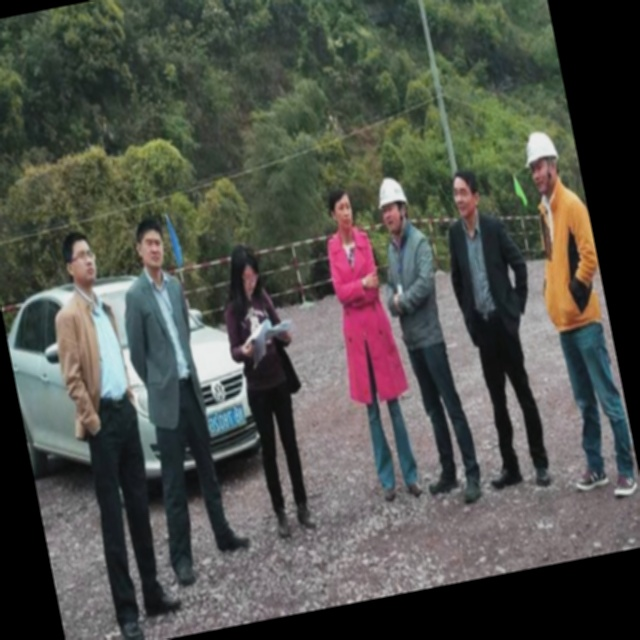Con_Casco: (519, 130, 564, 197), (372, 175, 411, 233)
Sin_Casco_Mascarrilla: (61, 228, 101, 291), (133, 215, 169, 273)
